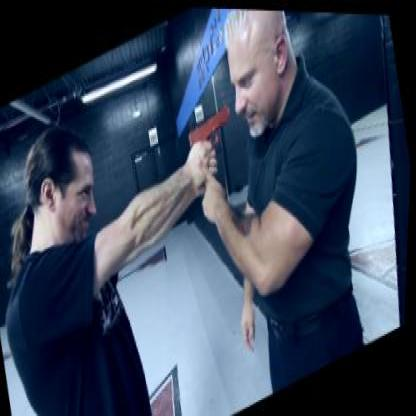pistol: (184, 96, 235, 158)
